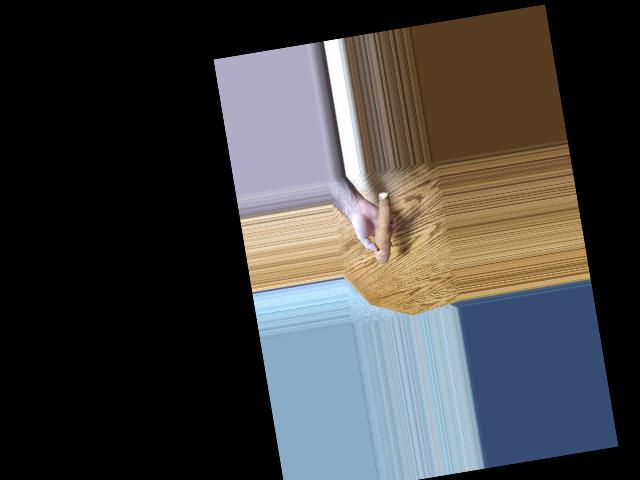sweet_potato: (368, 193, 400, 268)
